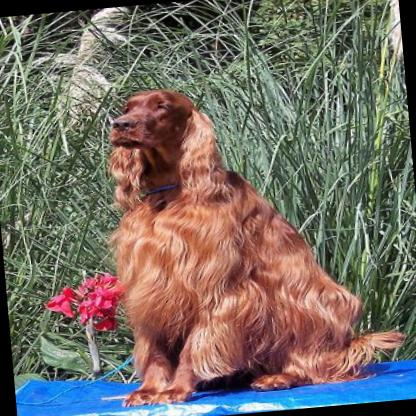Irish_setter: (88, 66, 414, 410)
